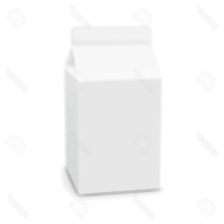carton: (58, 21, 163, 201)
